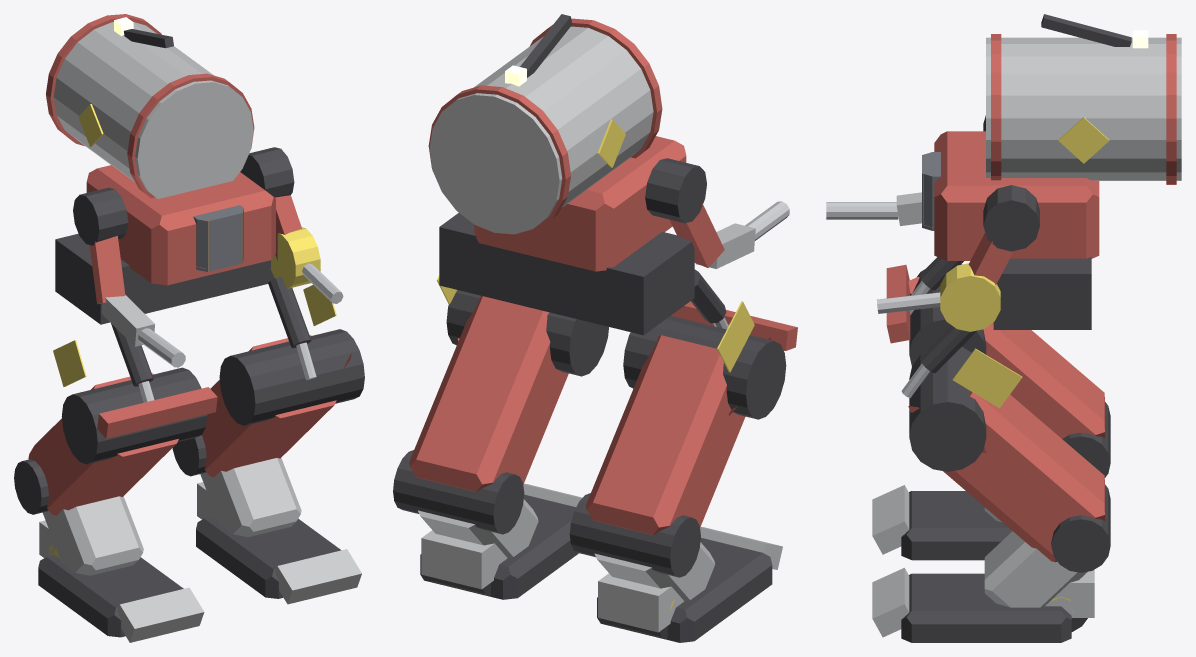
File: bowser.glb
3 views of the same model, side by side, from view 1: azimuth 30°, elevation 25°; view 2: azimuth 150°, elevation 25°; view 3: azimuth 270°, elevation 25° (orthographic). The views are drawn at different scales.
Parts seen in each view (by area): view 1: tank, chassis, knee1, hips, knee-1, shin-1, foot-1_sole, foot1_sole, meta-1, meta1, shin1, thigh-1 (+23 smaller); view 2: tank, shin-1, shin1, hips, chassis, knee-1, foot-1_sole, hock-1, hock1, foot1_sole, knee1, foot1_housing (+16 smaller); view 3: tank, shin1, chassis, foot1_sole, shin-1, hips, knee1, foot-1_sole, meta1, reel, drum1, hock1 (+19 smaller).
Part boxes in pixels (x1=…): tank: x1=53, y1=22, x2=253, y2=198; chassis: x1=86, y1=165, x2=275, y2=285; knee1: x1=219, y1=329, x2=364, y2=425; hips: x1=55, y1=233, x2=274, y2=324; knee-1: x1=61, y1=367, x2=207, y2=464; shin-1: x1=28, y1=373, x2=178, y2=515; foot-1_sole: x1=38, y1=555, x2=183, y2=637; foot1_sole: x1=196, y1=516, x2=340, y2=598; meta-1: x1=42, y1=496, x2=143, y2=575; meta1: x1=200, y1=458, x2=301, y2=537; shin1: x1=202, y1=334, x2=336, y2=477; thigh-1: x1=97, y1=387, x2=217, y2=438; tank: x1=429, y1=26, x2=654, y2=234; shin-1: x1=586, y1=335, x2=745, y2=535; shin1: x1=409, y1=295, x2=568, y2=491; hips: x1=439, y1=213, x2=694, y2=335; chassis: x1=474, y1=136, x2=686, y2=271; knee-1: x1=623, y1=316, x2=786, y2=419; foot-1_sole: x1=597, y1=538, x2=772, y2=642; hock-1: x1=569, y1=493, x2=700, y2=577; hock1: x1=393, y1=450, x2=524, y2=534; foot1_sole: x1=420, y1=494, x2=578, y2=599; knee1: x1=446, y1=290, x2=608, y2=376; foot1_housing: x1=421, y1=530, x2=507, y2=589; tank: x1=986, y1=37, x2=1181, y2=180; shin1: x1=943, y1=391, x2=1104, y2=562; chassis: x1=934, y1=131, x2=1099, y2=260; foot1_sole: x1=901, y1=573, x2=1071, y2=642; shin-1: x1=983, y1=322, x2=1104, y2=438; hips: x1=993, y1=256, x2=1091, y2=329; knee1: x1=909, y1=347, x2=986, y2=471; foot-1_sole: x1=901, y1=491, x2=1012, y2=560; meta1: x1=984, y1=531, x2=1087, y2=607; reel: x1=940, y1=263, x2=1000, y2=331; drum1: x1=983, y1=185, x2=1039, y2=251; hock1: x1=1051, y1=484, x2=1110, y2=572.
Size of the model in its own units: 12.88 by 24.14 by 13.8.
